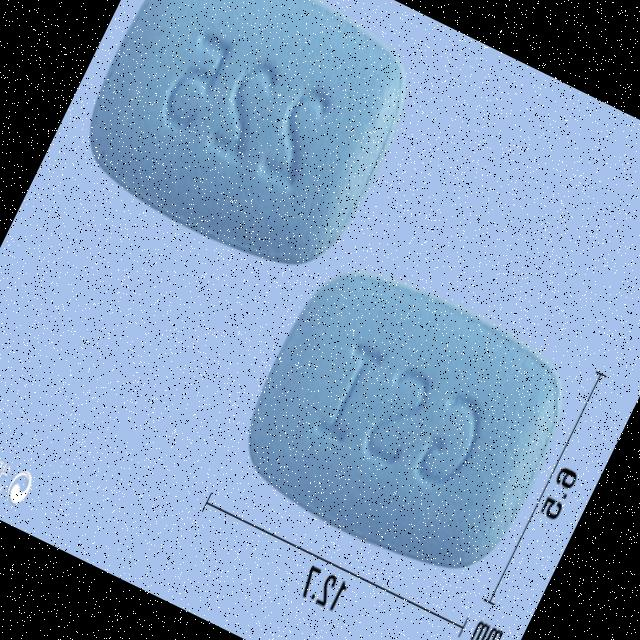Descovy: (216, 238, 590, 600), (59, 0, 437, 291)
